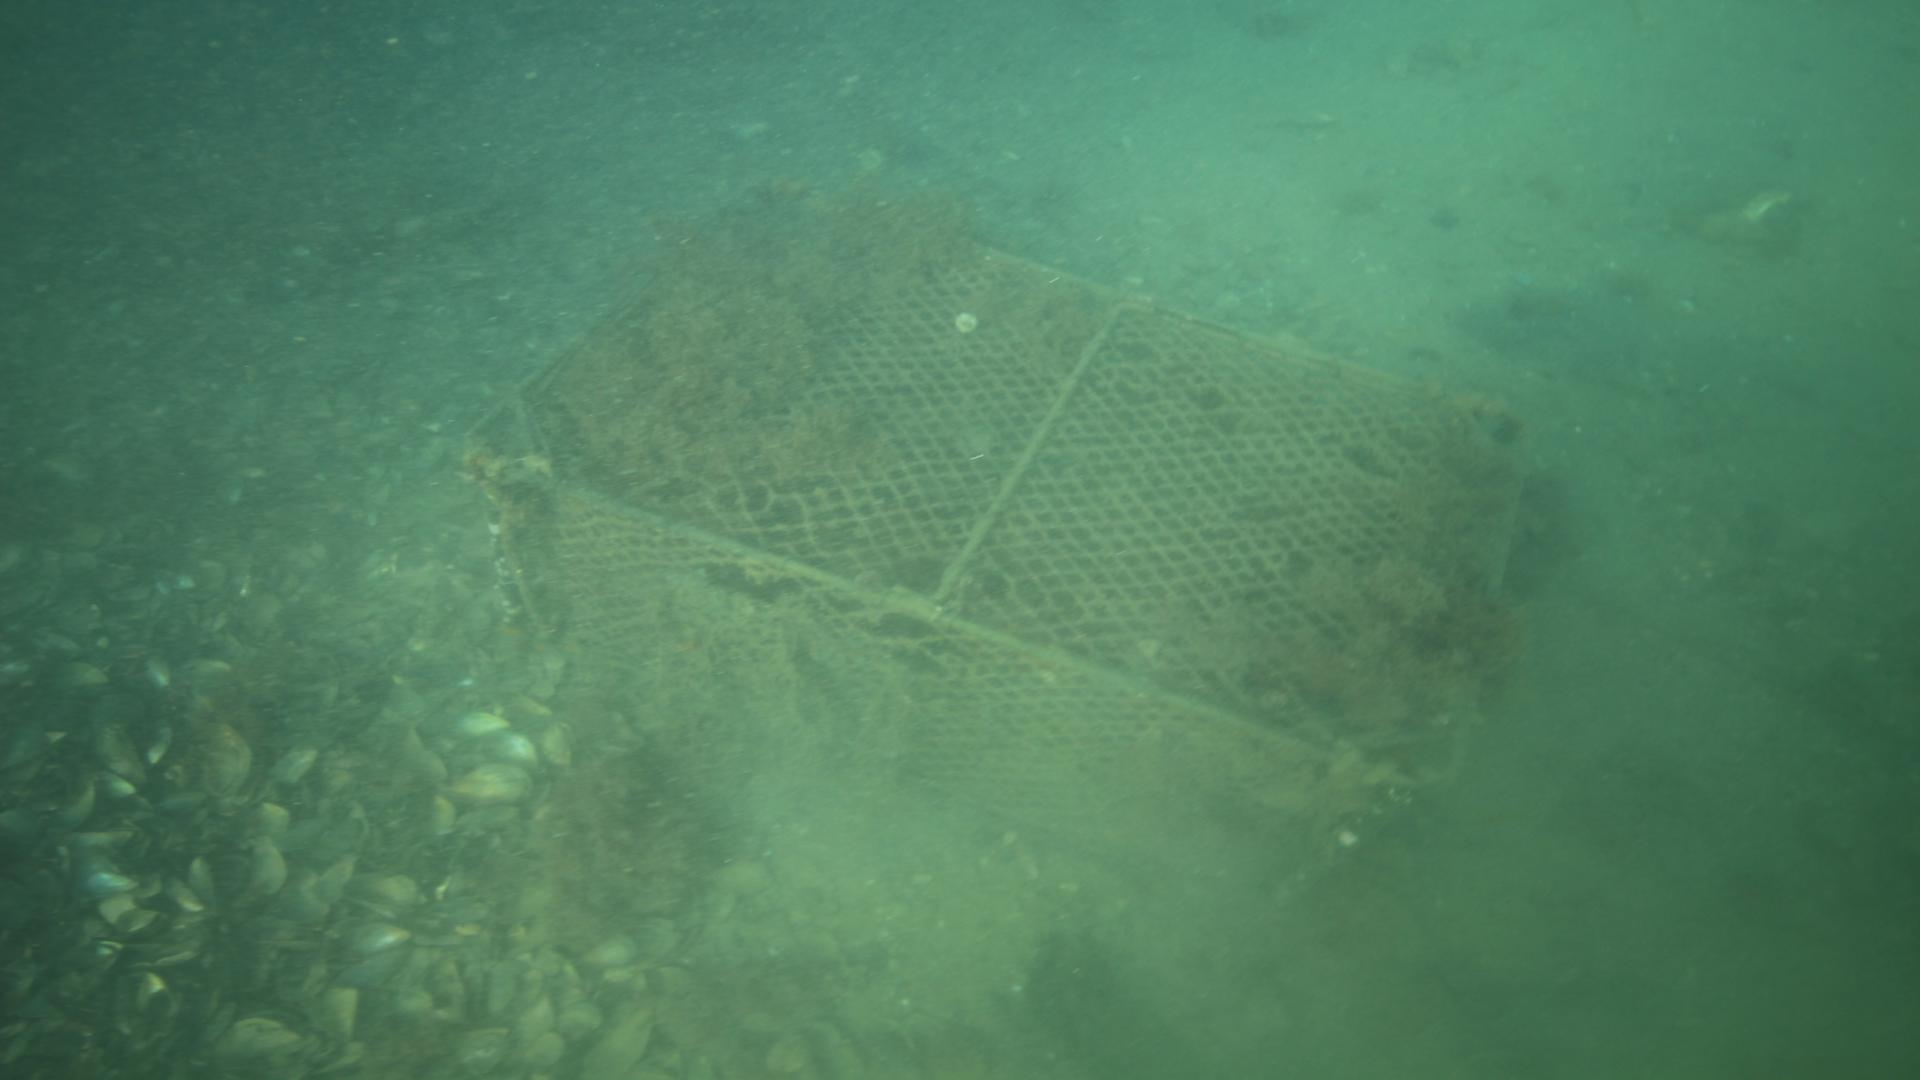rectangular fish trap: (459, 183, 1538, 910)
